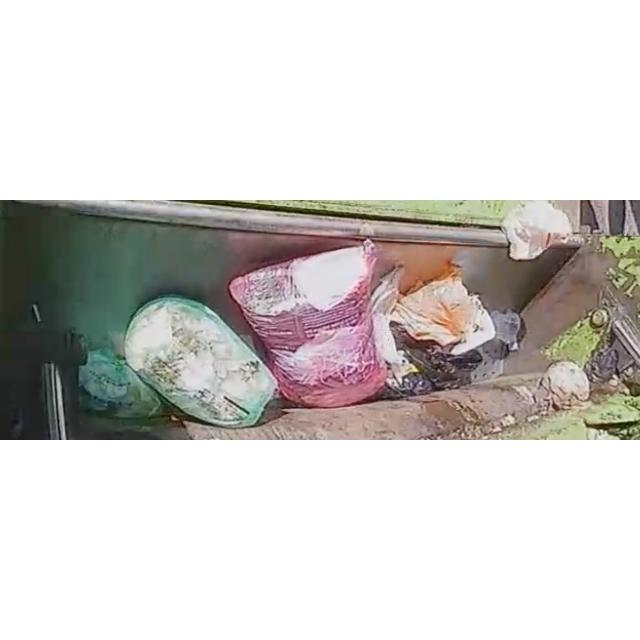general_trashbag: (125, 296, 276, 427), (79, 349, 161, 418)
other_trashbag: (229, 240, 386, 407)
